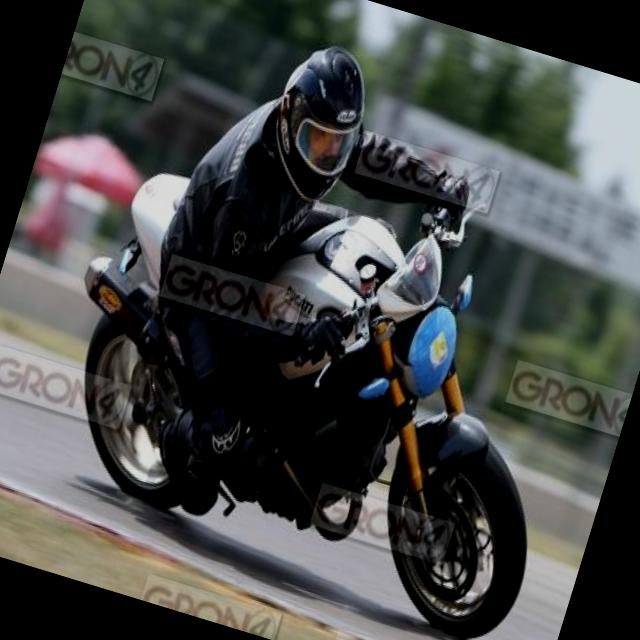Vehicle: (16, 107, 623, 640)
